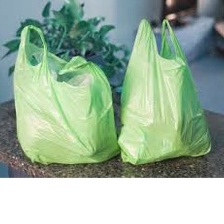plastic_bag: (11, 22, 123, 166), (115, 14, 215, 167)
